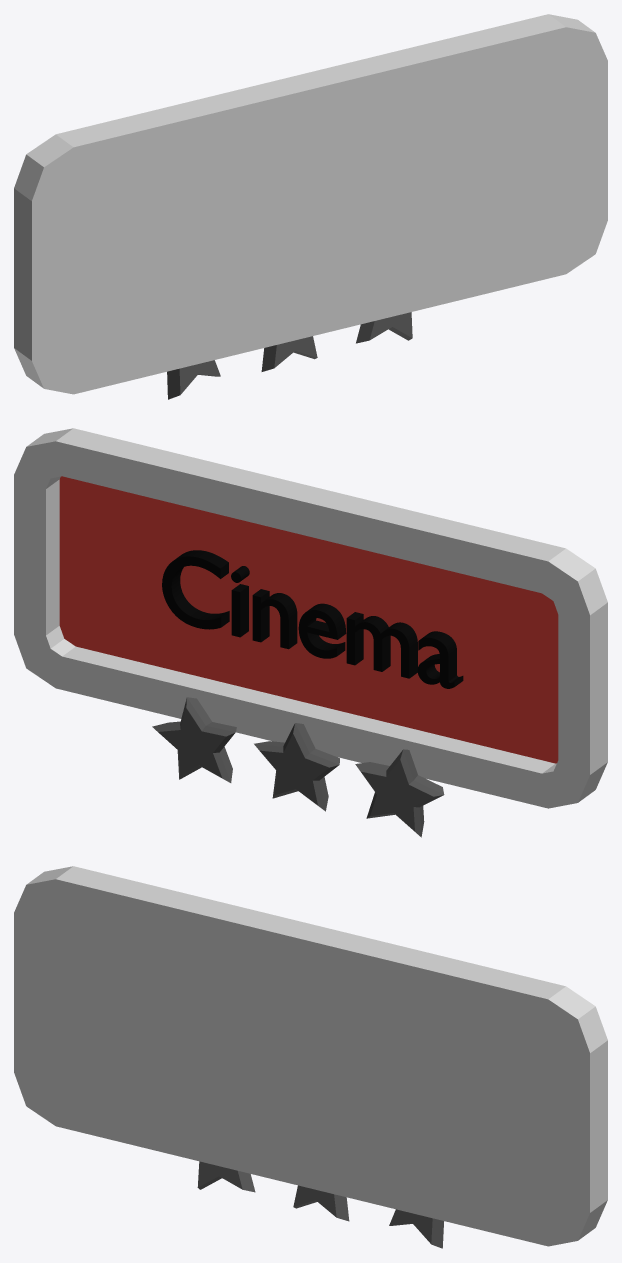
The model's file is CinemaPlate.fbx.
3 renders of one model, top to bottom at view 1: azimuth 30°, elevation 25°; view 2: azimuth 150°, elevation 25°; view 3: azimuth 330°, elevation 25°, orthographic.
Parts seen in each view (by area): view 1: Cinema, Star.003, Star.004, Star.005; view 2: Cinema, Text.001, Star.005, Star.004, Star.003; view 3: Cinema, Star.004, Star.005, Star.003.
Boxes of the visible parts, x1,y1,x2,y2 form: Cinema: (14, 14, 607, 394); Star.003: (356, 312, 412, 343); Star.004: (261, 336, 317, 371); Star.005: (167, 360, 220, 399); Cinema: (14, 428, 607, 808); Text.001: (162, 550, 463, 688); Star.005: (355, 749, 444, 837); Star.004: (254, 723, 339, 811); Star.003: (152, 697, 236, 782); Cinema: (14, 866, 607, 1246); Star.004: (293, 1185, 349, 1221); Star.005: (197, 1161, 255, 1192); Star.003: (389, 1209, 443, 1248).
Bounding box in the file's own units: 342 × 170 × 33.66.
